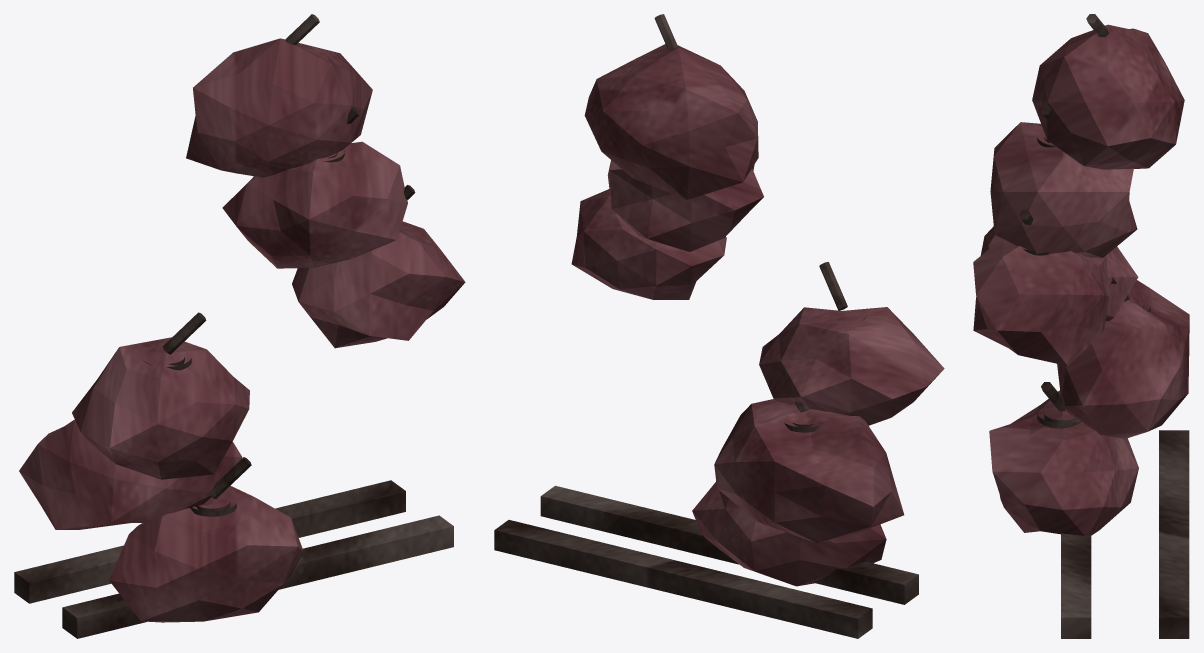
File: 0802_sack_stack_02.glb
3 renders of one model, left to right at view 1: azimuth 30°, elevation 25°; view 2: azimuth 150°, elevation 25°; view 3: azimuth 270°, elevation 25°, orthographic. The views are drawn at different scales.
Parts seen in each view (by area): view 1: cloth, wood_dark; view 2: cloth, wood_dark; view 3: cloth, wood_dark.
Part boxes in pixels (bbox=[...]): cloth: bbox=[19, 38, 465, 622]; wood_dark: bbox=[14, 14, 453, 638]; cloth: bbox=[571, 44, 944, 586]; wood_dark: bbox=[494, 14, 918, 638]; cloth: bbox=[973, 24, 1189, 535]; wood_dark: bbox=[1019, 14, 1189, 638].
Size of the model in its own units: 1.93 by 2.68 by 0.9268.
Materials: 2 (2 with a texture image).
